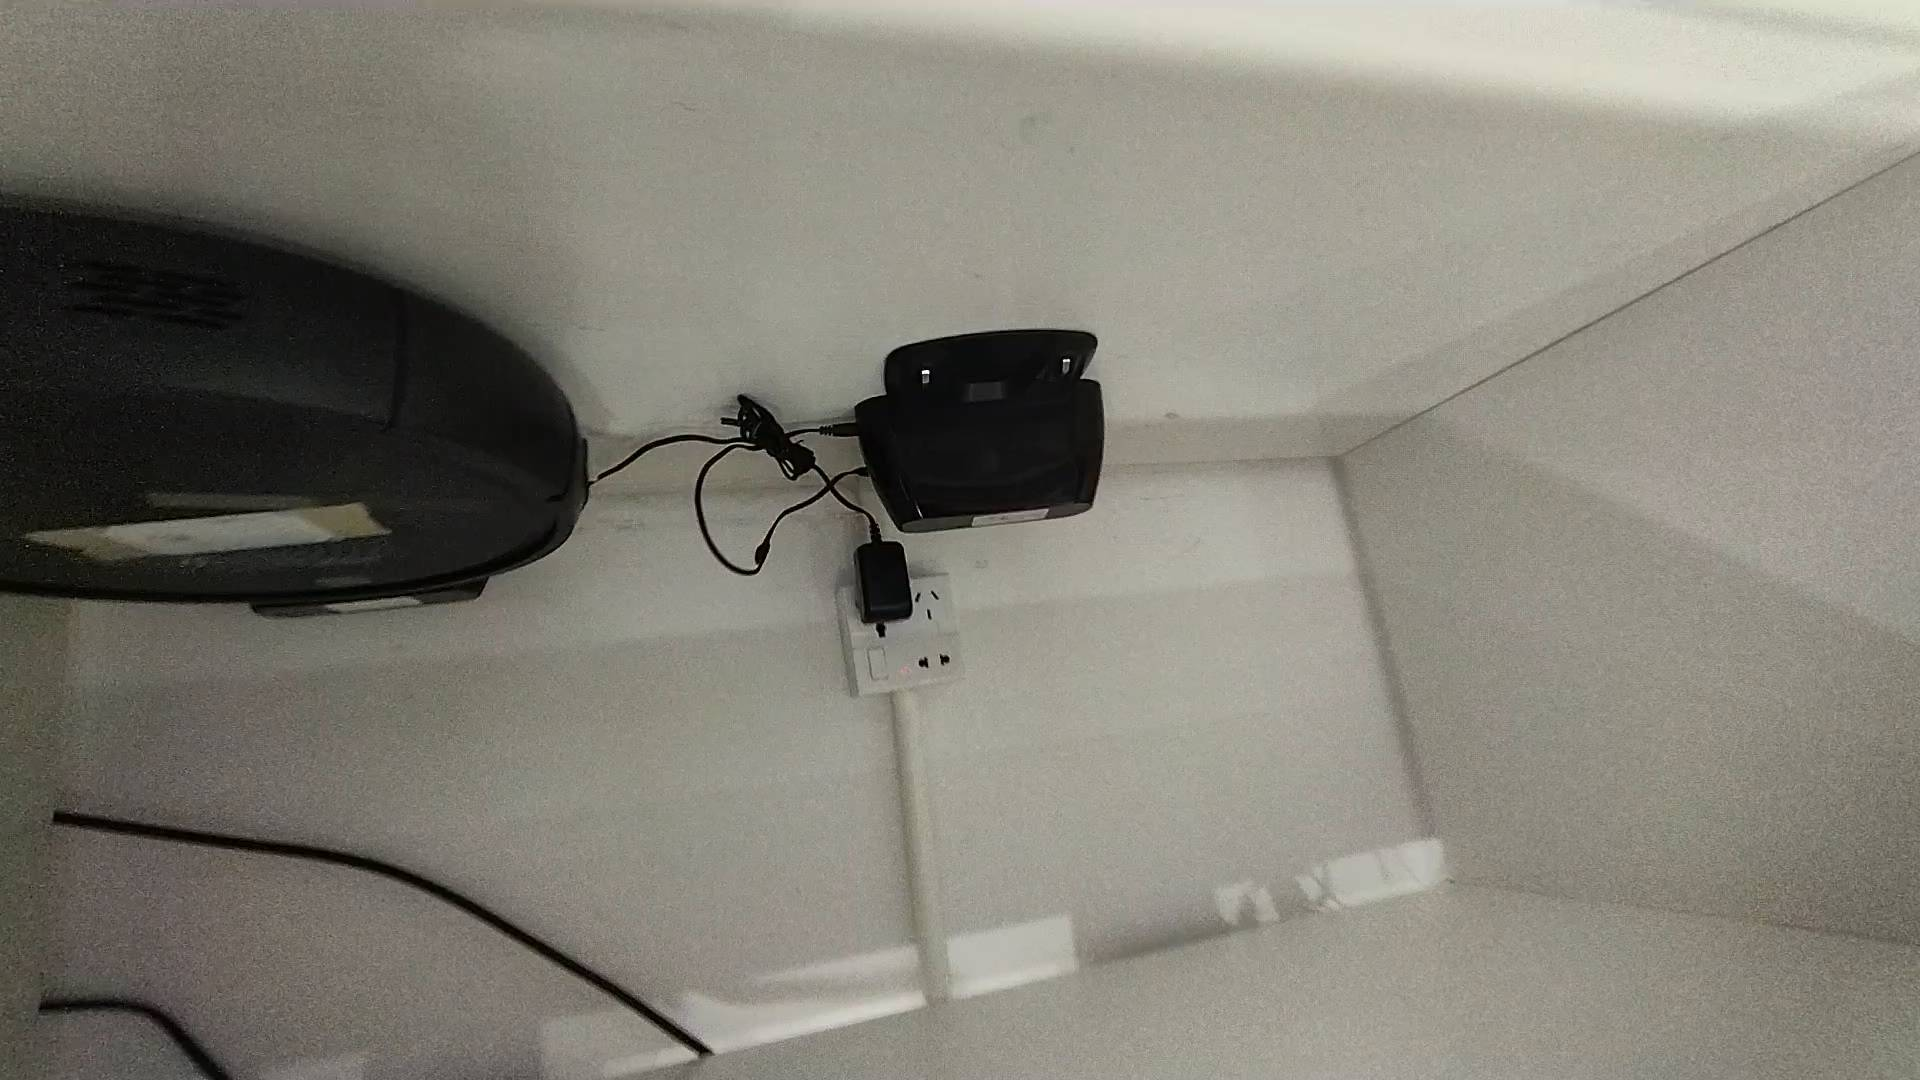recharge seat: (857, 327, 1122, 533)
